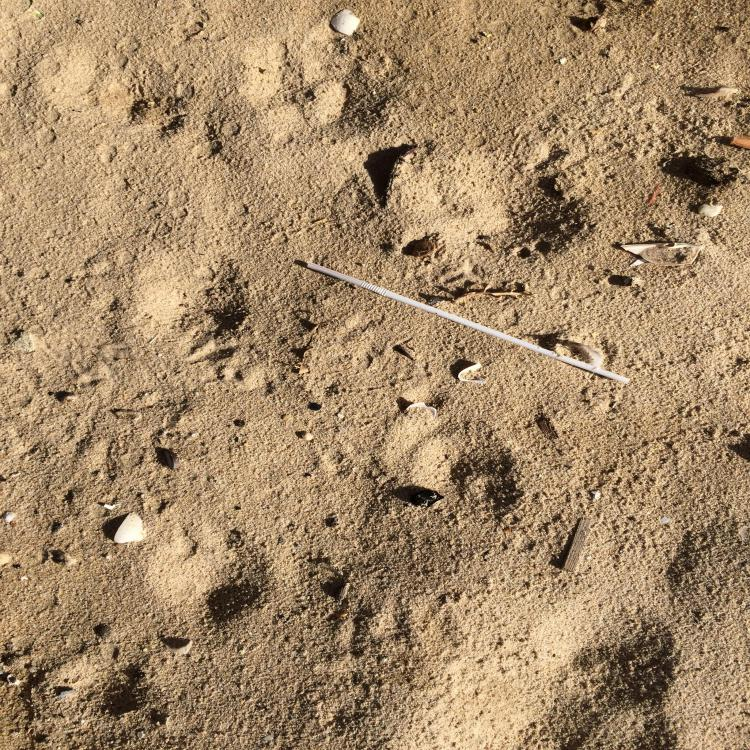Plastic straw: (307, 262, 630, 384)
